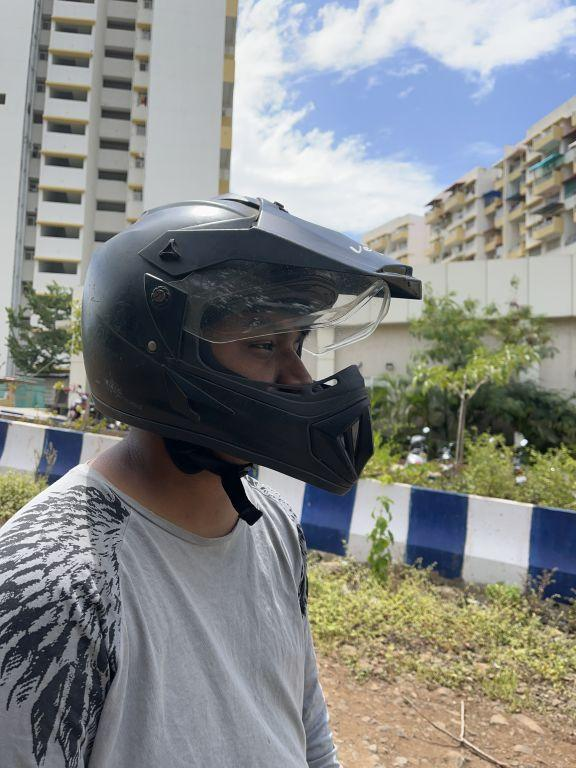helmet: (75, 187, 434, 503)
